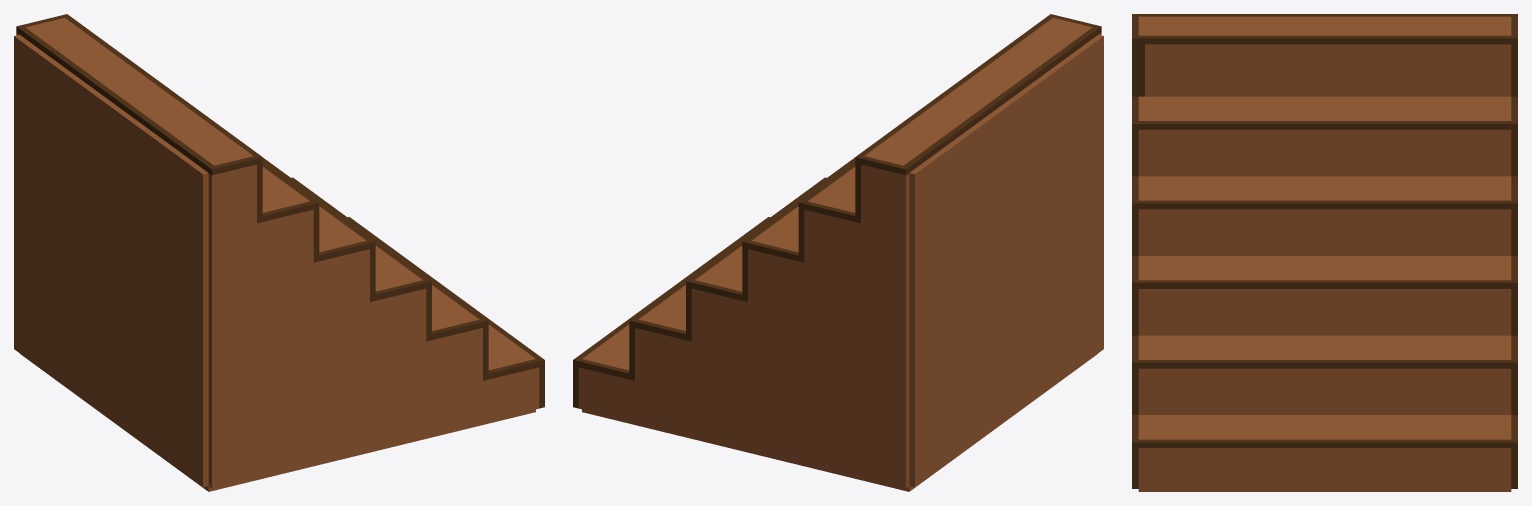
Rendered from SchoolPack-29-ladder.obj.
3 views of the same model, side by side, from view 1: azimuth 30°, elevation 25°; view 2: azimuth 150°, elevation 25°; view 3: azimuth 270°, elevation 25° (orthographic).
Visible parts, largest first — view 1: ladder; view 2: ladder; view 3: ladder.
Boxes of the visible parts, x1,y1,x2,y2 form: ladder: [14, 14, 544, 491]; ladder: [573, 14, 1103, 491]; ladder: [1132, 14, 1517, 491].
Size of the model in its own units: 6 by 5.5 by 6.
Materials: 1 (1 with a texture image).
